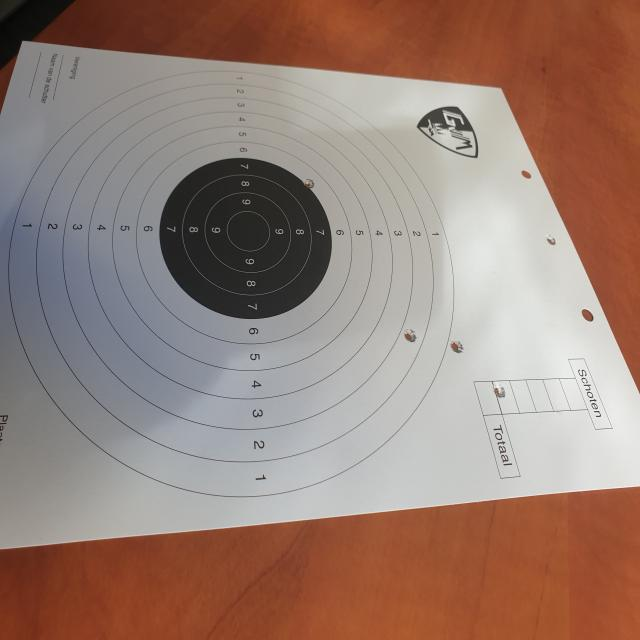0: (492, 383, 507, 399), (450, 338, 464, 354), (546, 233, 556, 247)
2: (402, 326, 418, 345)
7: (302, 177, 315, 189)
Target: (5, 68, 457, 501)
black_contour: (159, 156, 333, 319)
